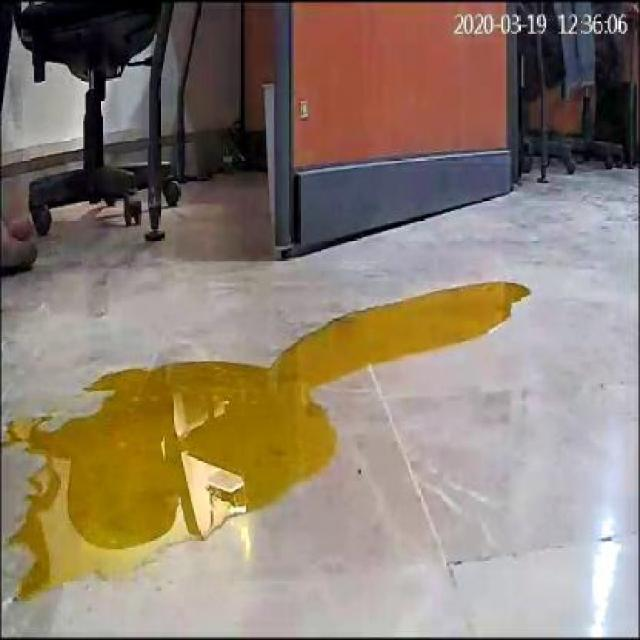spill: (14, 276, 531, 593)
